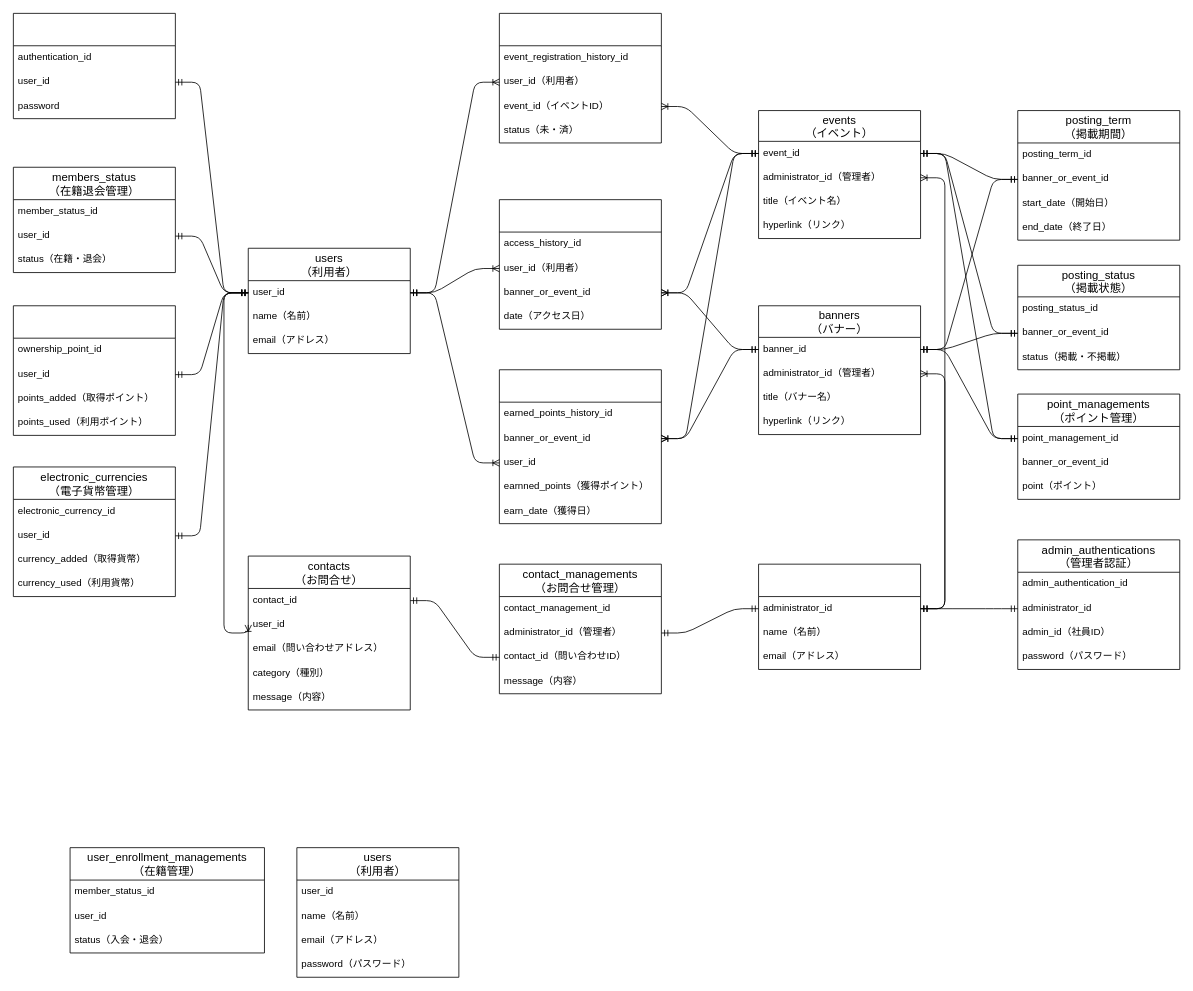
The diagram is 1193 pixels wide and 991 high, and some of its shapes have lost their labels. Here are the shapes that lost their labels. From the top down, the box of each, then its label:
(13, 13, 175, 119): user_authentications （利用者認証）
(499, 13, 661, 143): event_registration_histories （イベント登録履歴）
(499, 199, 661, 329): access_histories （アクセス履歴）
(13, 305, 175, 435): ownership_points （所有ポイント管理）
(499, 369, 661, 524): earnned_points_histories （獲得ポイント履歴）
(758, 563, 921, 669): administrators （管理者）
